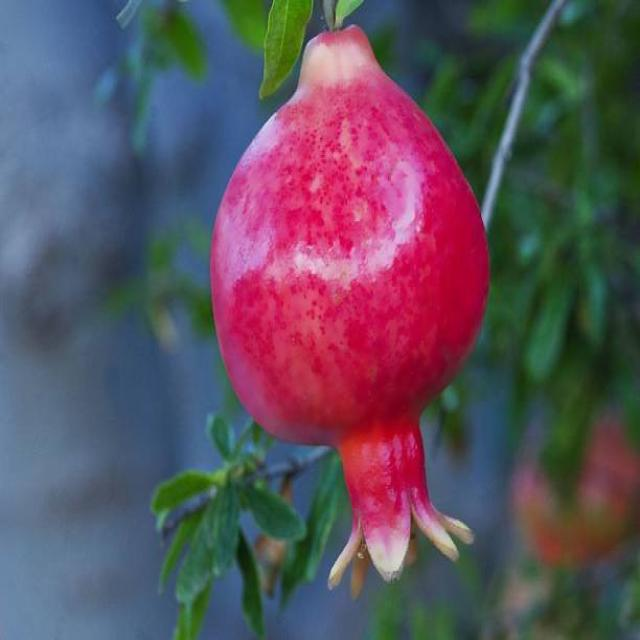Ripe: (201, 27, 493, 594)
